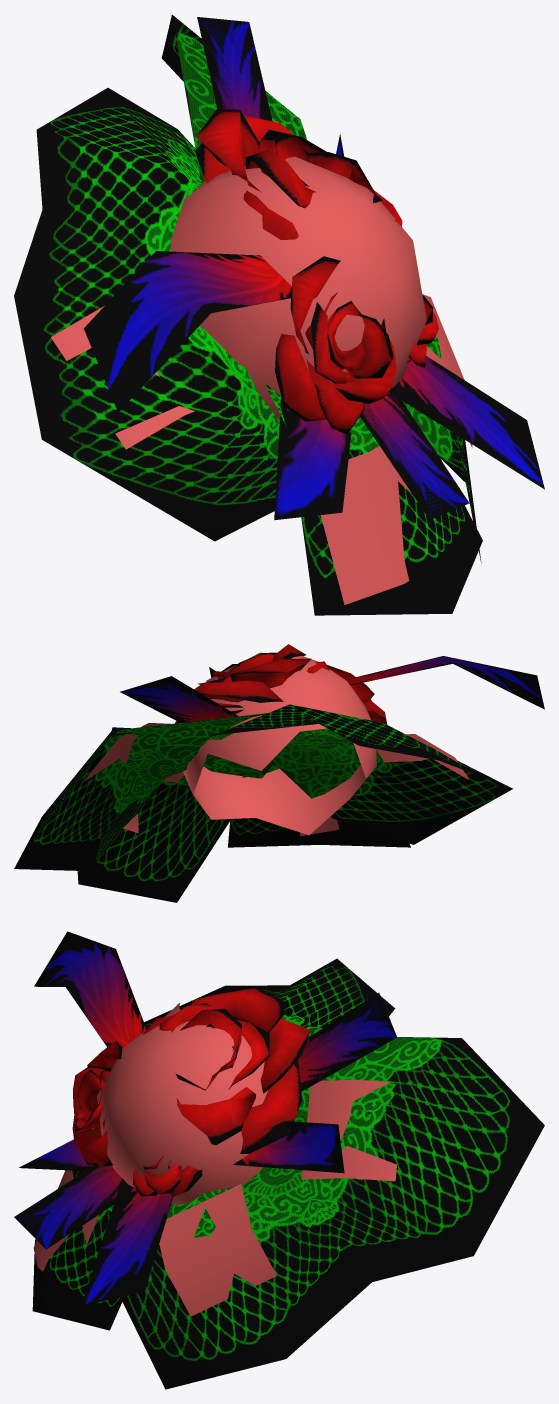
The picture shows the model from 3 angles, top to bottom: view 1: azimuth 30°, elevation 25°; view 2: azimuth 150°, elevation 25°; view 3: azimuth 270°, elevation 25°; orthographic projection. The views are drawn at different scales.
Parts seen in each view (by area): view 1: G1294, "Editable Poly"; view 2: G1294, "Editable Poly"; view 3: G1294, "Editable Poly".
Part boxes in pixels (<box>): G1294: <box>14,14,544,615</box>; "Editable Poly": <box>51,119,472,604</box>; G1294: <box>14,644,544,902</box>; "Editable Poly": <box>83,652,468,836</box>; G1294: <box>14,931,544,1389</box>; "Editable Poly": <box>33,1003,396,1316</box>.
Bounding box in the file's own units: 0.3884 × 0.3325 × 0.4602.
